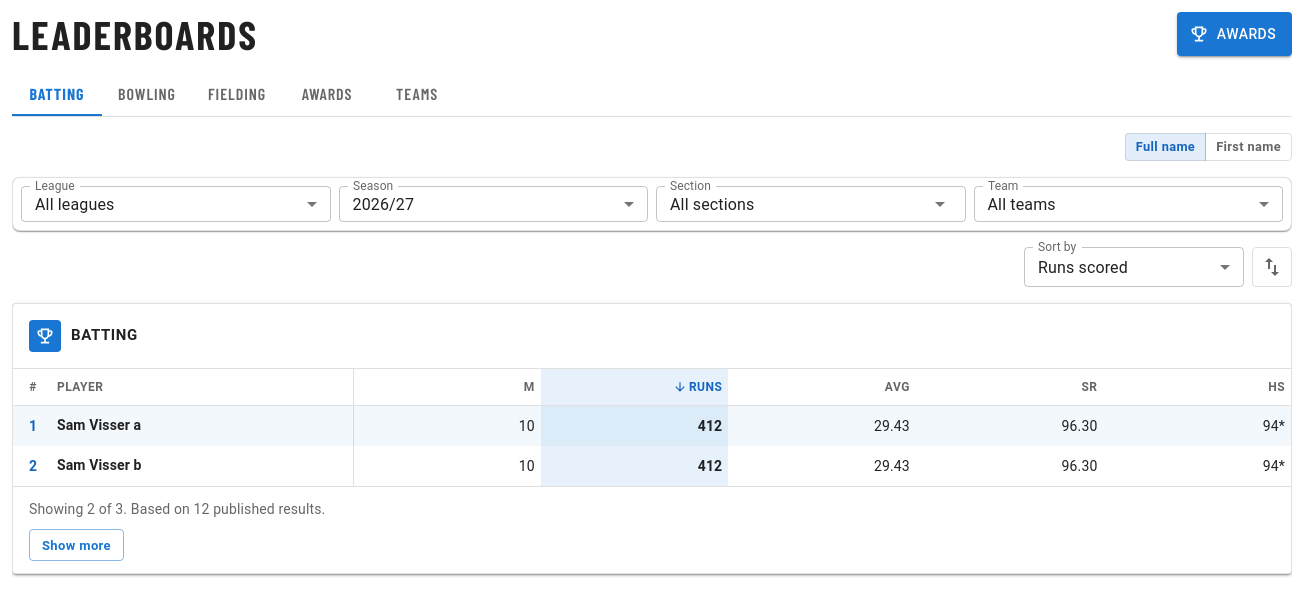
Test: LeaderboardsPage › paging › Show more requests the next page and appends, never slicing
This screenshot has width=1304, height=594.
Expected: the text with test id "board-footer" shows "Showing 2 of 3.", [29,501,325,517]
Click the button "Show more". click: (76, 545)
box: [29,529,124,561]
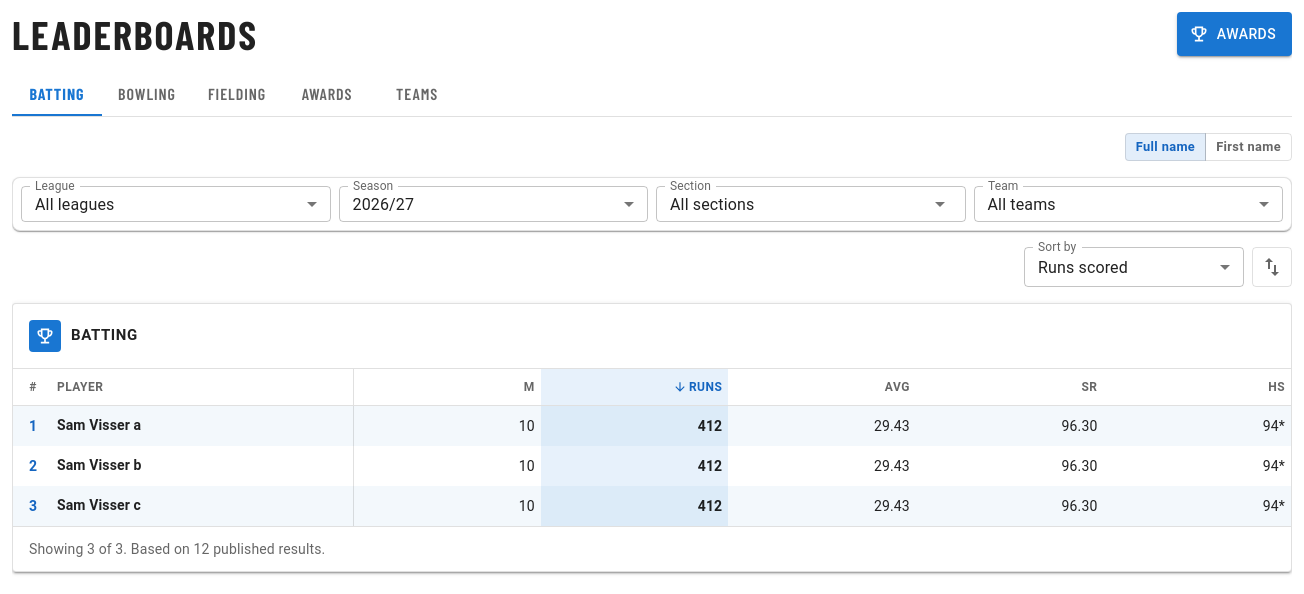
Result: the number of rows with test id "standings-row" is 3 at [13,406,1291,446]; [13,446,1291,486]; [13,486,1291,526]
Result: the text with test id "board-footer" shows "Showing 3 of 3." at [29,541,325,557]
Result: the button "Show more" is gone
